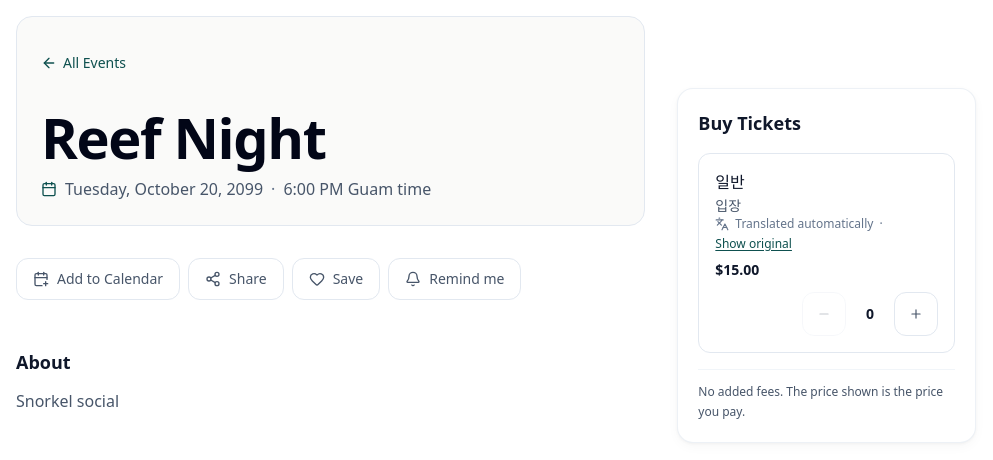
Test case: switches both ticket name and description when only ticket content was translated
Expected: the text "입장" is shown, [715,196,741,215]
Click the button "Show original" at (754, 244), box [715,232,792,256]
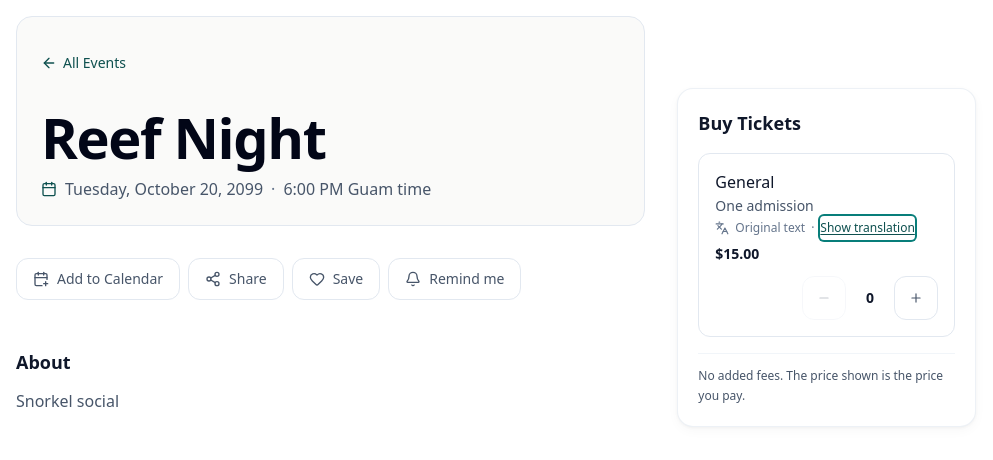
Now the heading "General" is shown, box [715,170,774,194]
Now the text "One admission" is shown, box [715,196,814,215]
Now the text "입장" is gone
